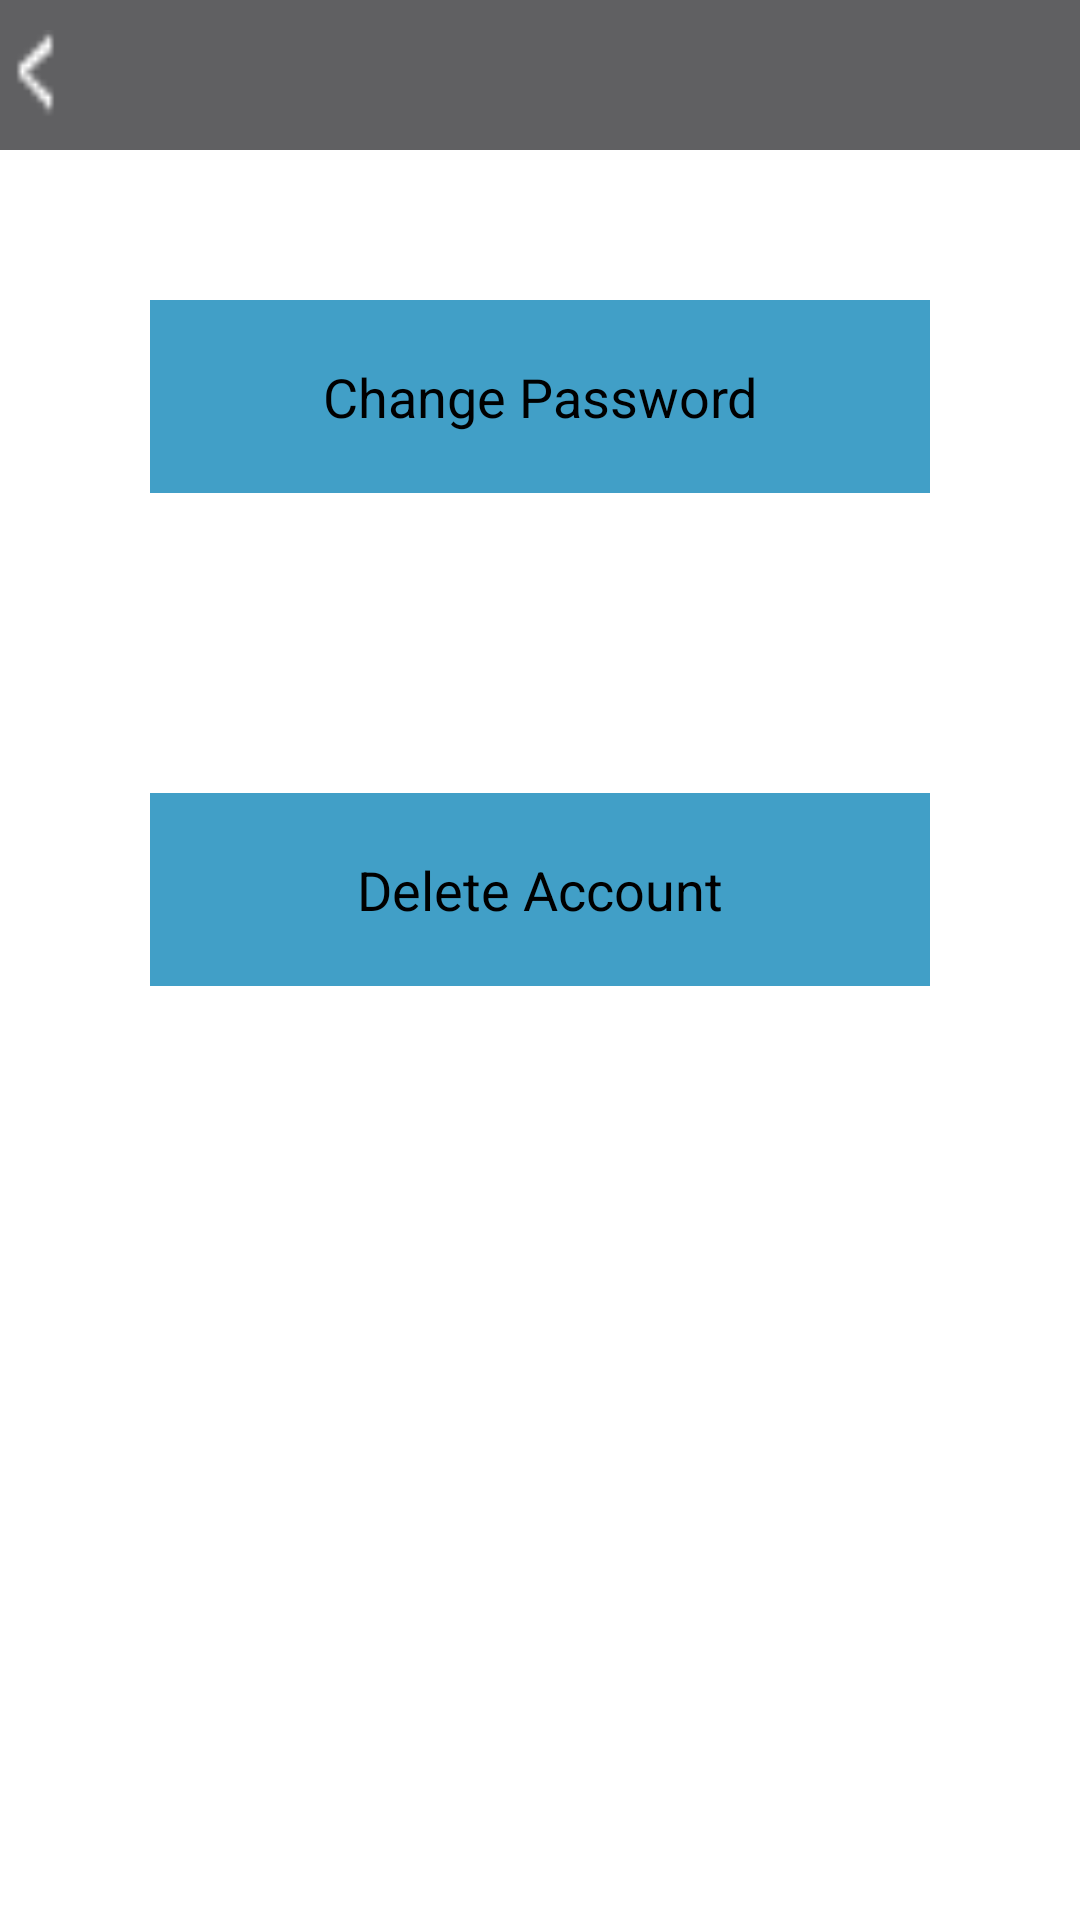

Locate icon controls on the screen. Image size 1080 x 1920, boxes as (x1, y1, x2, y2).
backicon: (17, 34, 54, 112)
